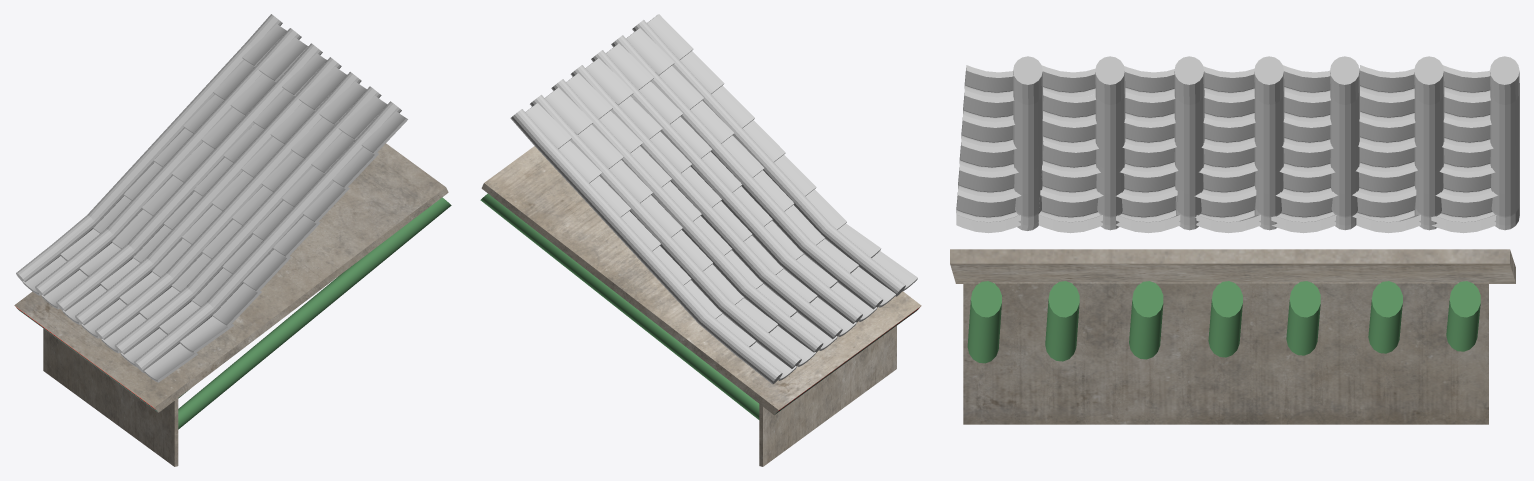
The model's file is SM_Roof_20.fbx.
The picture shows the model from 3 angles, left to right: view 1: azimuth 30°, elevation 25°; view 2: azimuth 150°, elevation 25°; view 3: azimuth 270°, elevation 25°; orthographic projection. The views are drawn at different scales.
Parts seen in each view (by area): view 1: SM_Roof_20; view 2: SM_Roof_20; view 3: SM_Roof_20.
Boxes of the visible parts, x1=… form: SM_Roof_20: x1=14, y1=14, x2=451, y2=466; SM_Roof_20: x1=480, y1=14, x2=921, y2=466; SM_Roof_20: x1=950, y1=56, x2=1519, y2=424.
Bounding box in the file's own units: 559 × 453 × 520.
